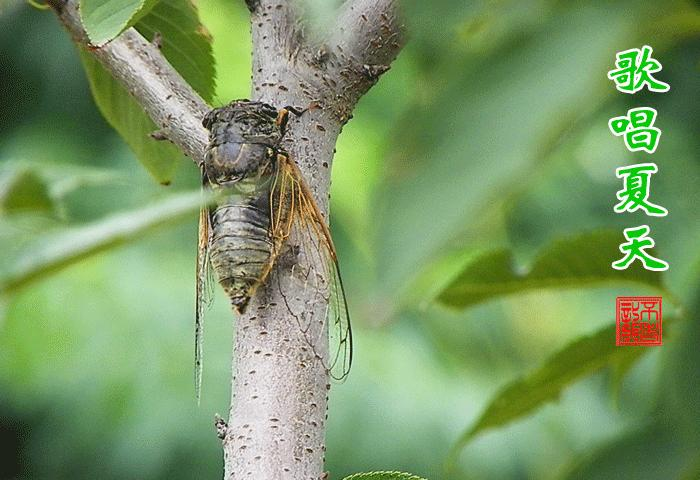chan: (168, 98, 352, 384)
